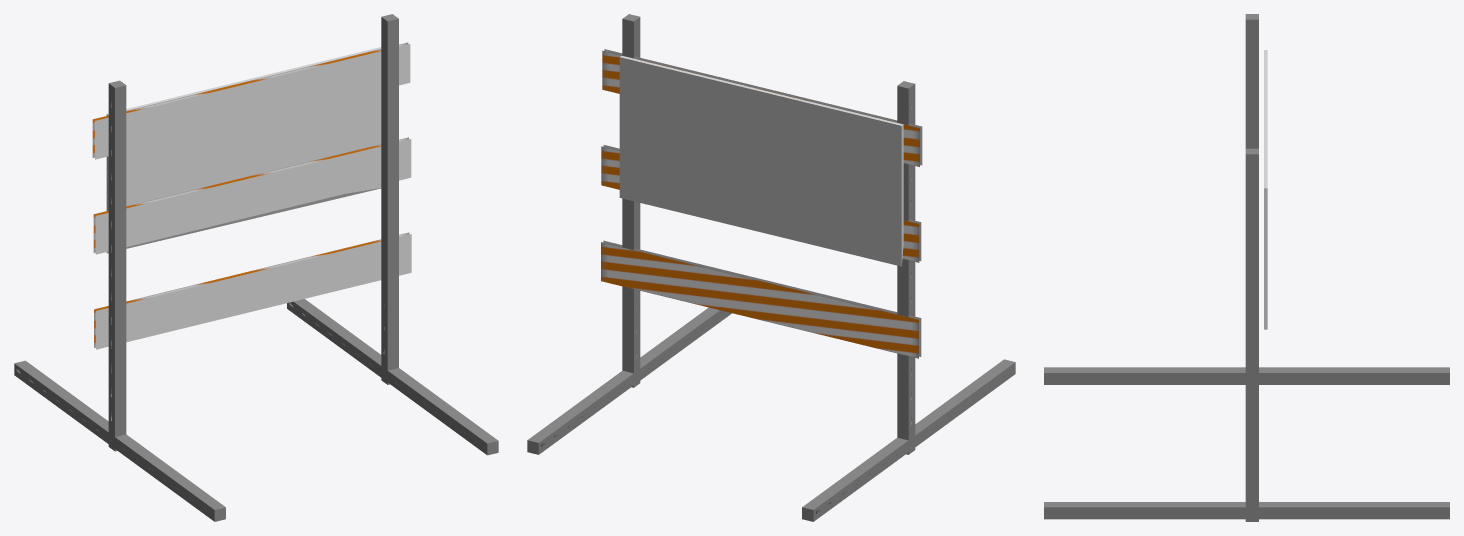
File: road closed hazard sign.fbx
3 renders of one model, left to right at view 1: azimuth 30°, elevation 25°; view 2: azimuth 150°, elevation 25°; view 3: azimuth 270°, elevation 25°, orthographic.
Parts seen in each view (by area): view 1: pCube8, pCube6, pCube5, pCube7, pCube4, pCube3, pCube9, pCube10; view 2: pCube8, pCube7, pCube9, pCube10, pCube4, pCube3, pCube5, pCube6; view 3: pCube10, pCube9, pCube3, pCube4, pCube8.
Boxes of the visible parts, <box> form: pCube8: <box>106,47,381,253</box>; pCube6: <box>93,137,411,254</box>; pCube5: <box>92,42,410,159</box>; pCube7: <box>94,232,411,349</box>; pCube4: <box>108,80,126,451</box>; pCube3: <box>381,14,398,384</box>; pCube9: <box>14,360,225,521</box>; pCube10: <box>287,299,498,455</box>; pCube8: <box>619,56,903,266</box>; pCube7: <box>601,240,921,358</box>; pCube9: <box>802,359,1015,521</box>; pCube10: <box>527,307,731,454</box>; pCube4: <box>897,81,915,454</box>; pCube3: <box>622,14,640,387</box>; pCube5: <box>602,49,922,166</box>; pCube6: <box>601,145,921,262</box>; pCube10: <box>1044,502,1449,519</box>; pCube9: <box>1044,367,1449,384</box>; pCube3: <box>1245,148,1258,521</box>; pCube4: <box>1245,14,1258,148</box>; pCube8: <box>1264,50,1267,329</box>.
Bounding box in the file's own units: 2.32 × 2.55 × 2.55.
